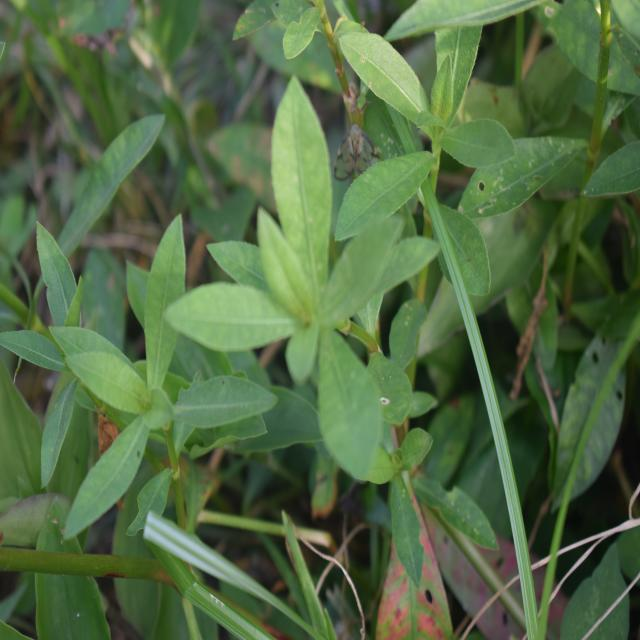Alligatorweed: (215, 93, 424, 461), (54, 226, 276, 524)
